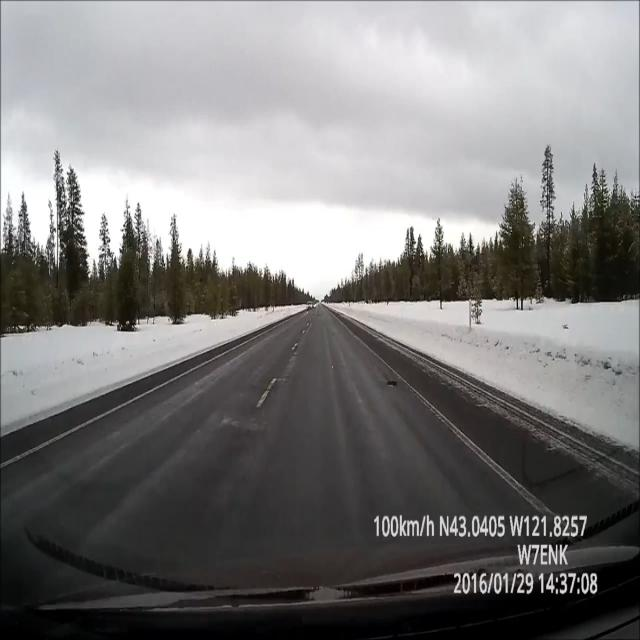Pothole: (381, 375, 405, 397)
